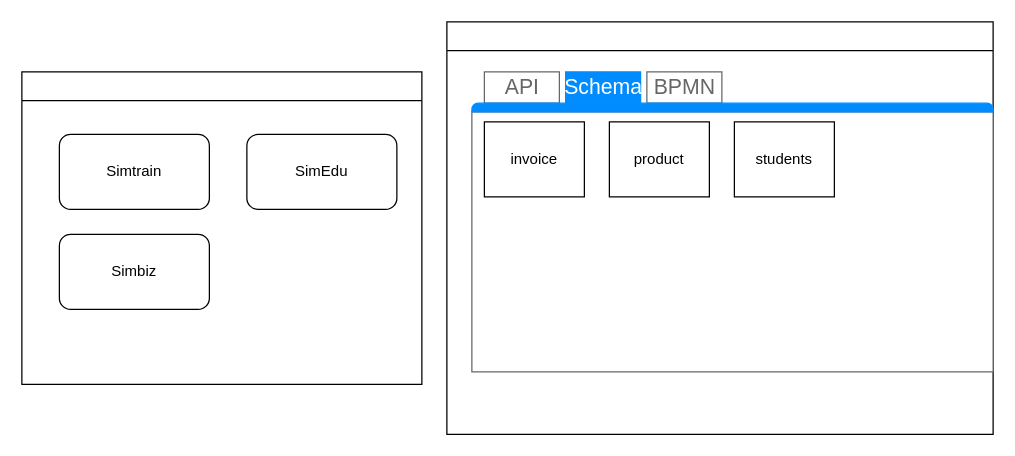
Image size: 1015x456. Some labels were removed from this diagram. Here are the shapes that lost their labels. From the top down, the box of each, then its label:
(21, 71, 422, 384): Products
(446, 21, 993, 434): Vertical Container
